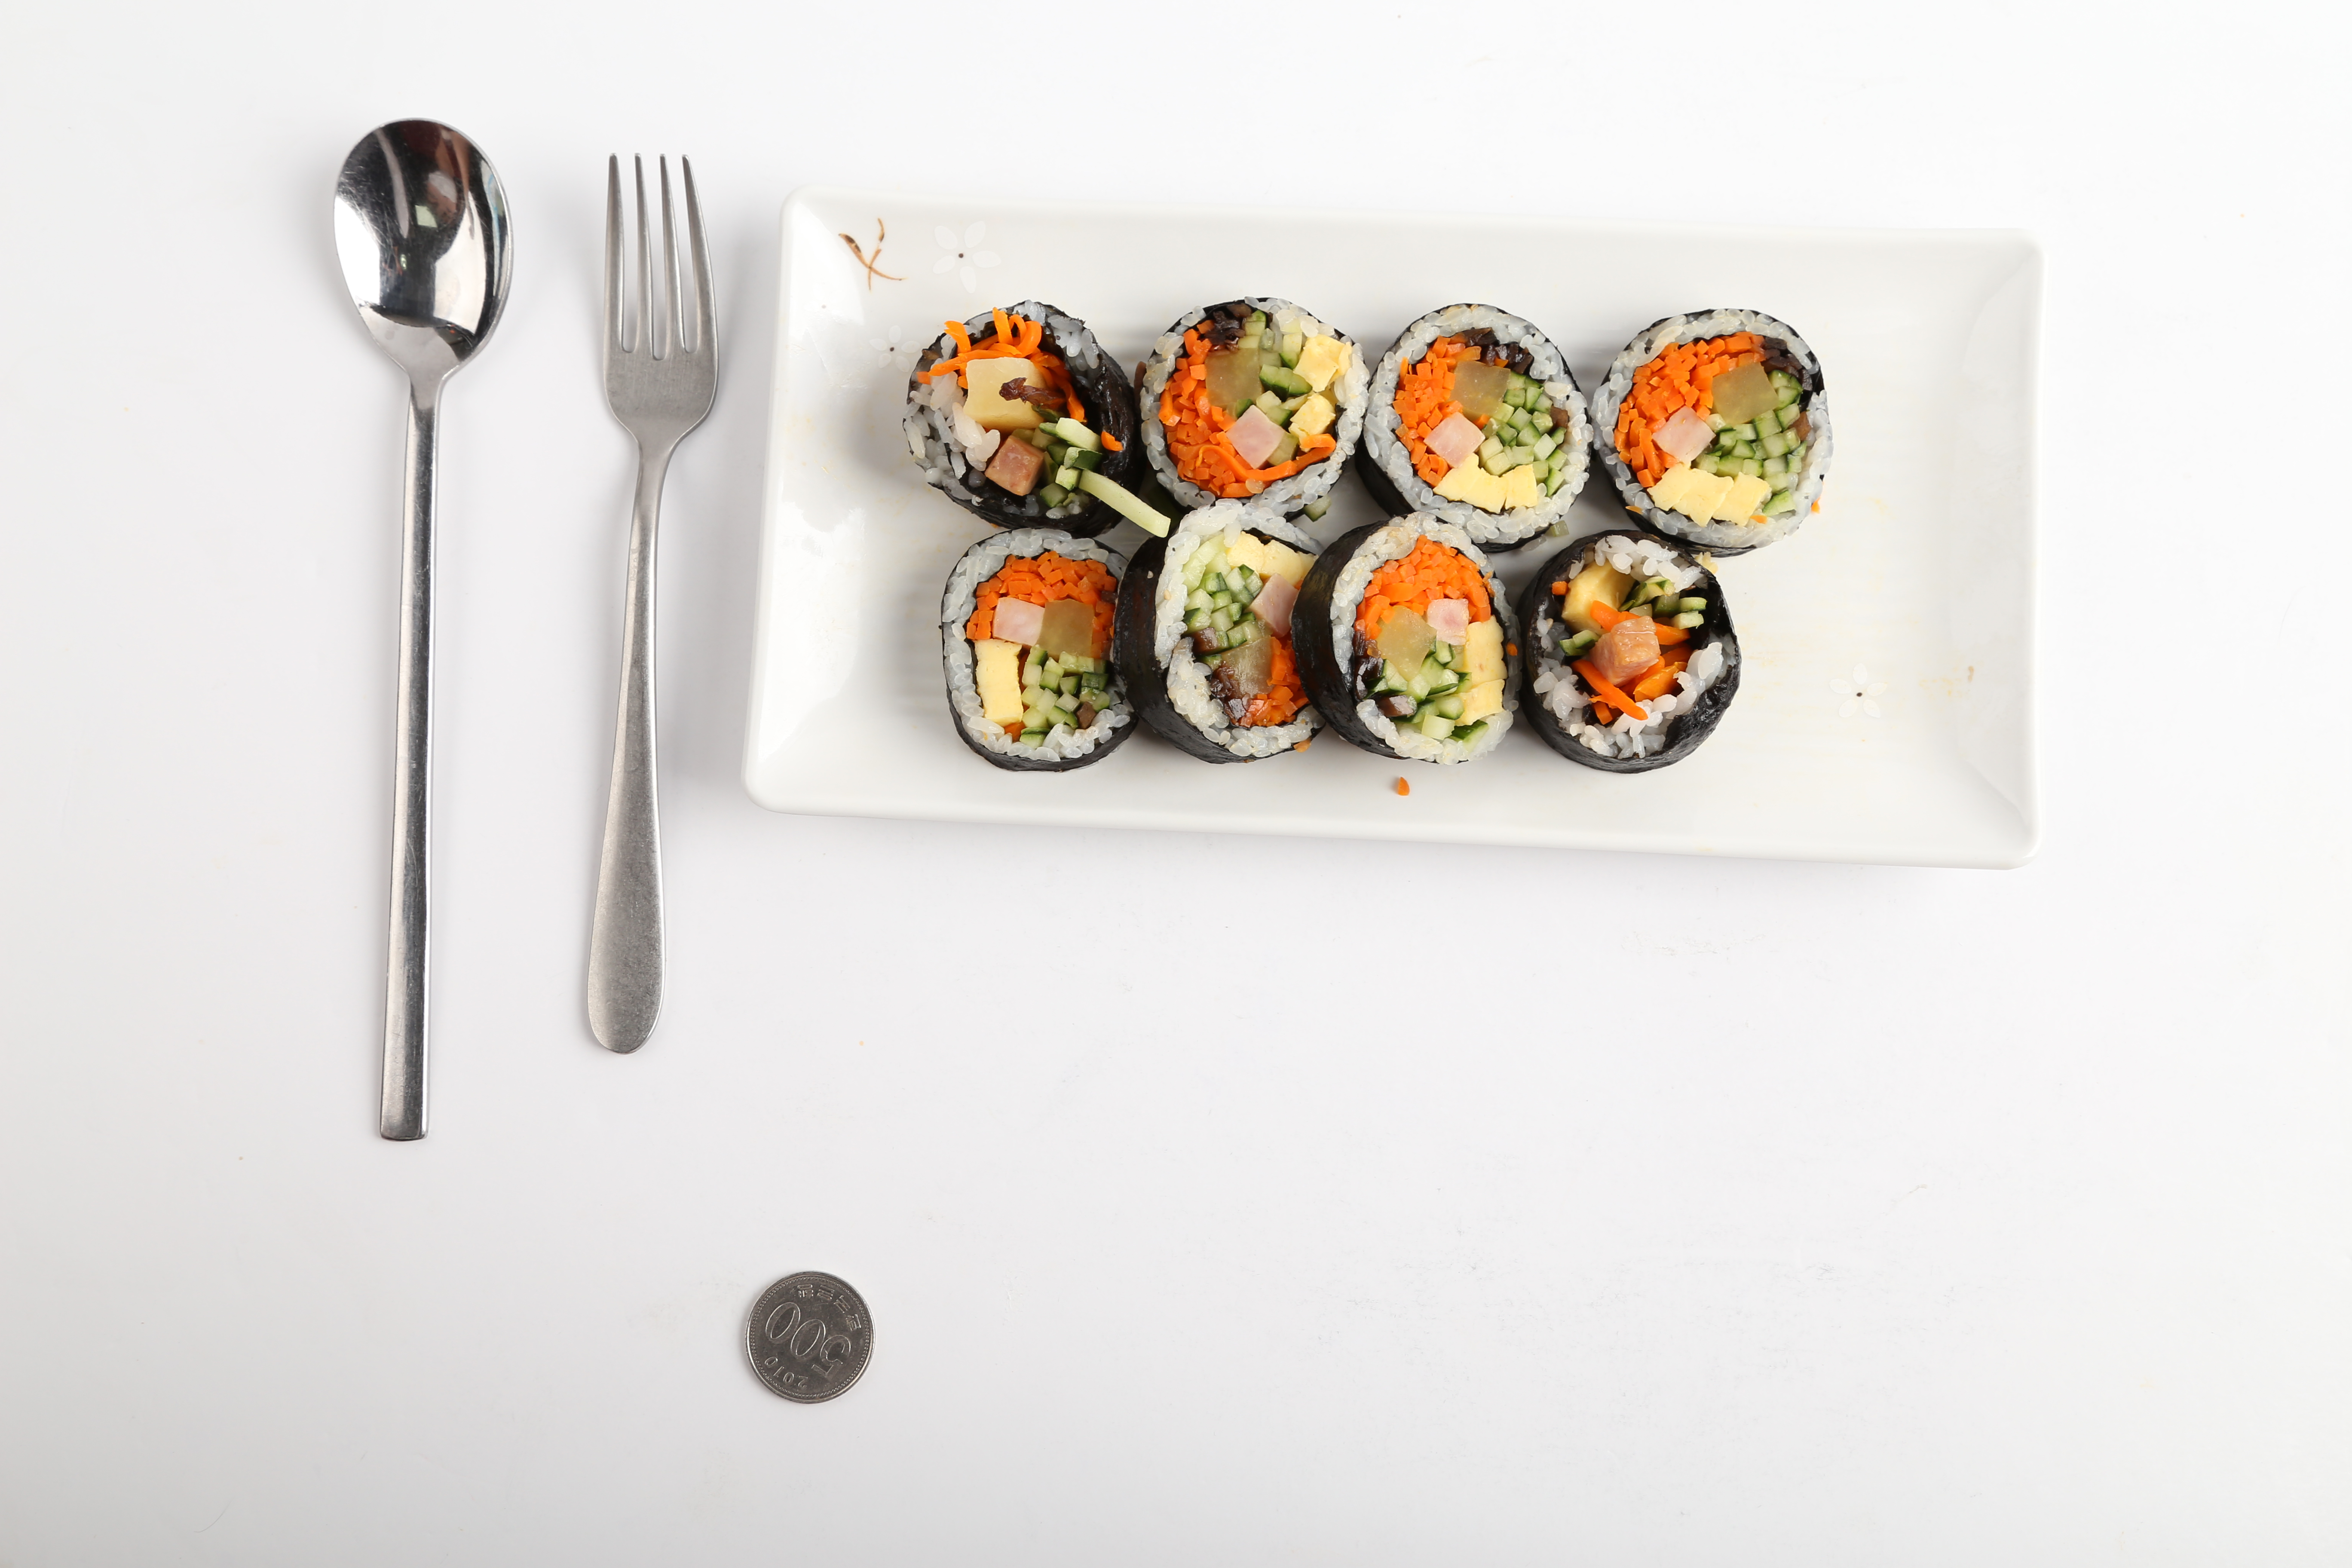dish: (735, 138, 2047, 873)
ref_coin: (737, 1263, 877, 1412)
ref_fork: (595, 150, 724, 492)
ref_spoon: (327, 115, 520, 425)
김밥: (896, 292, 1836, 775)
